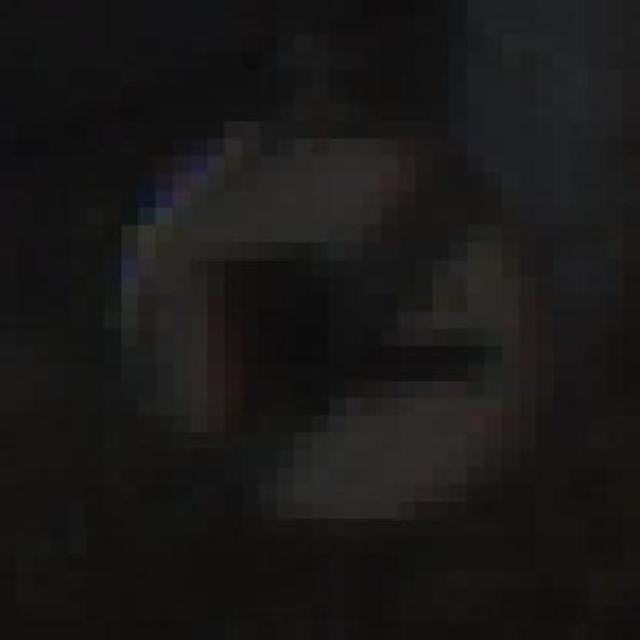Overtaking by trucks is prohibited: (86, 69, 571, 571)
